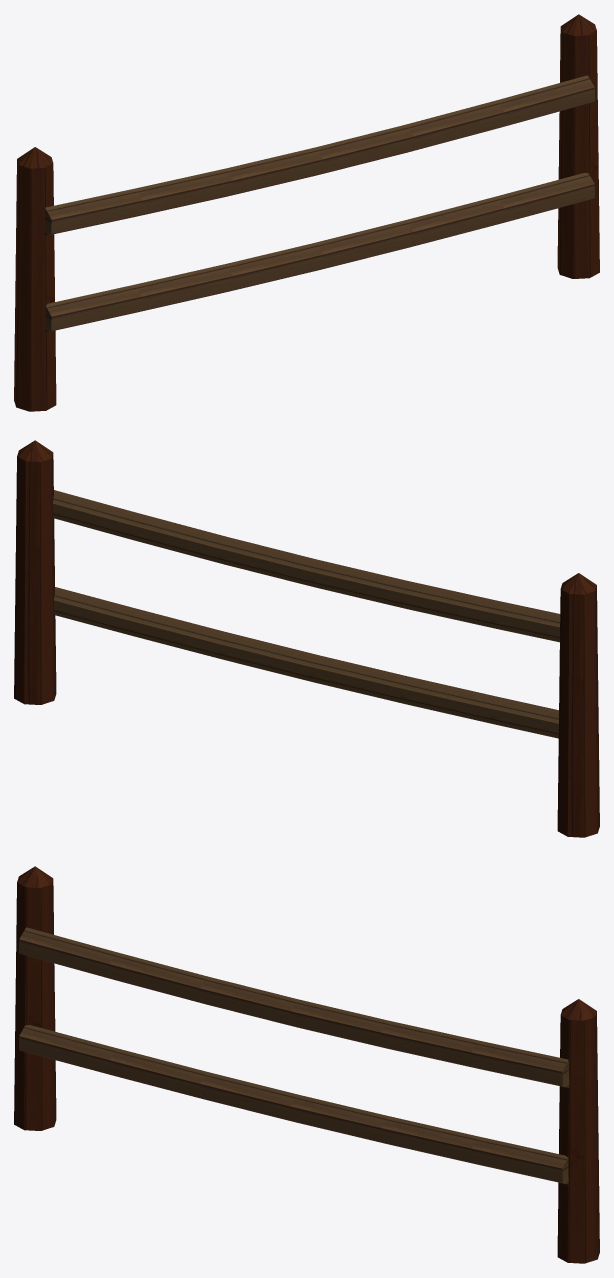
The model's file is pen_fence_01.glb.
3 views of the same model, one above another, from view 1: azimuth 30°, elevation 25°; view 2: azimuth 150°, elevation 25°; view 3: azimuth 330°, elevation 25° (orthographic).
Parts seen in each view (by area): view 1: pen_fence_01; view 2: pen_fence_01; view 3: pen_fence_01.
Part boxes in pixels (x1=…): pen_fence_01: x1=14, y1=14, x2=599, y2=411; pen_fence_01: x1=14, y1=440, x2=599, y2=837; pen_fence_01: x1=14, y1=866, x2=599, y2=1263.
Bounding box in the file's own units: 2.14 × 0.9 × 0.1733.
Materials: 2 (2 with a texture image).
